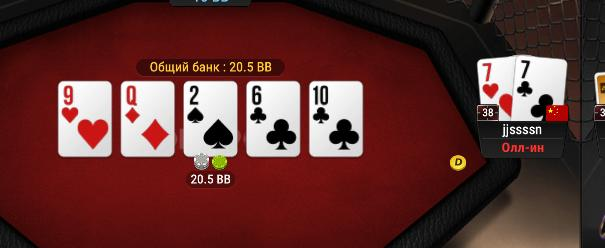10c: (310, 82, 361, 156)
2h: (184, 82, 236, 155)
6c: (247, 81, 300, 156)
7c: (515, 54, 568, 120)
7h: (477, 57, 513, 121)
9h: (57, 82, 112, 156)
Qd: (121, 81, 175, 157)
